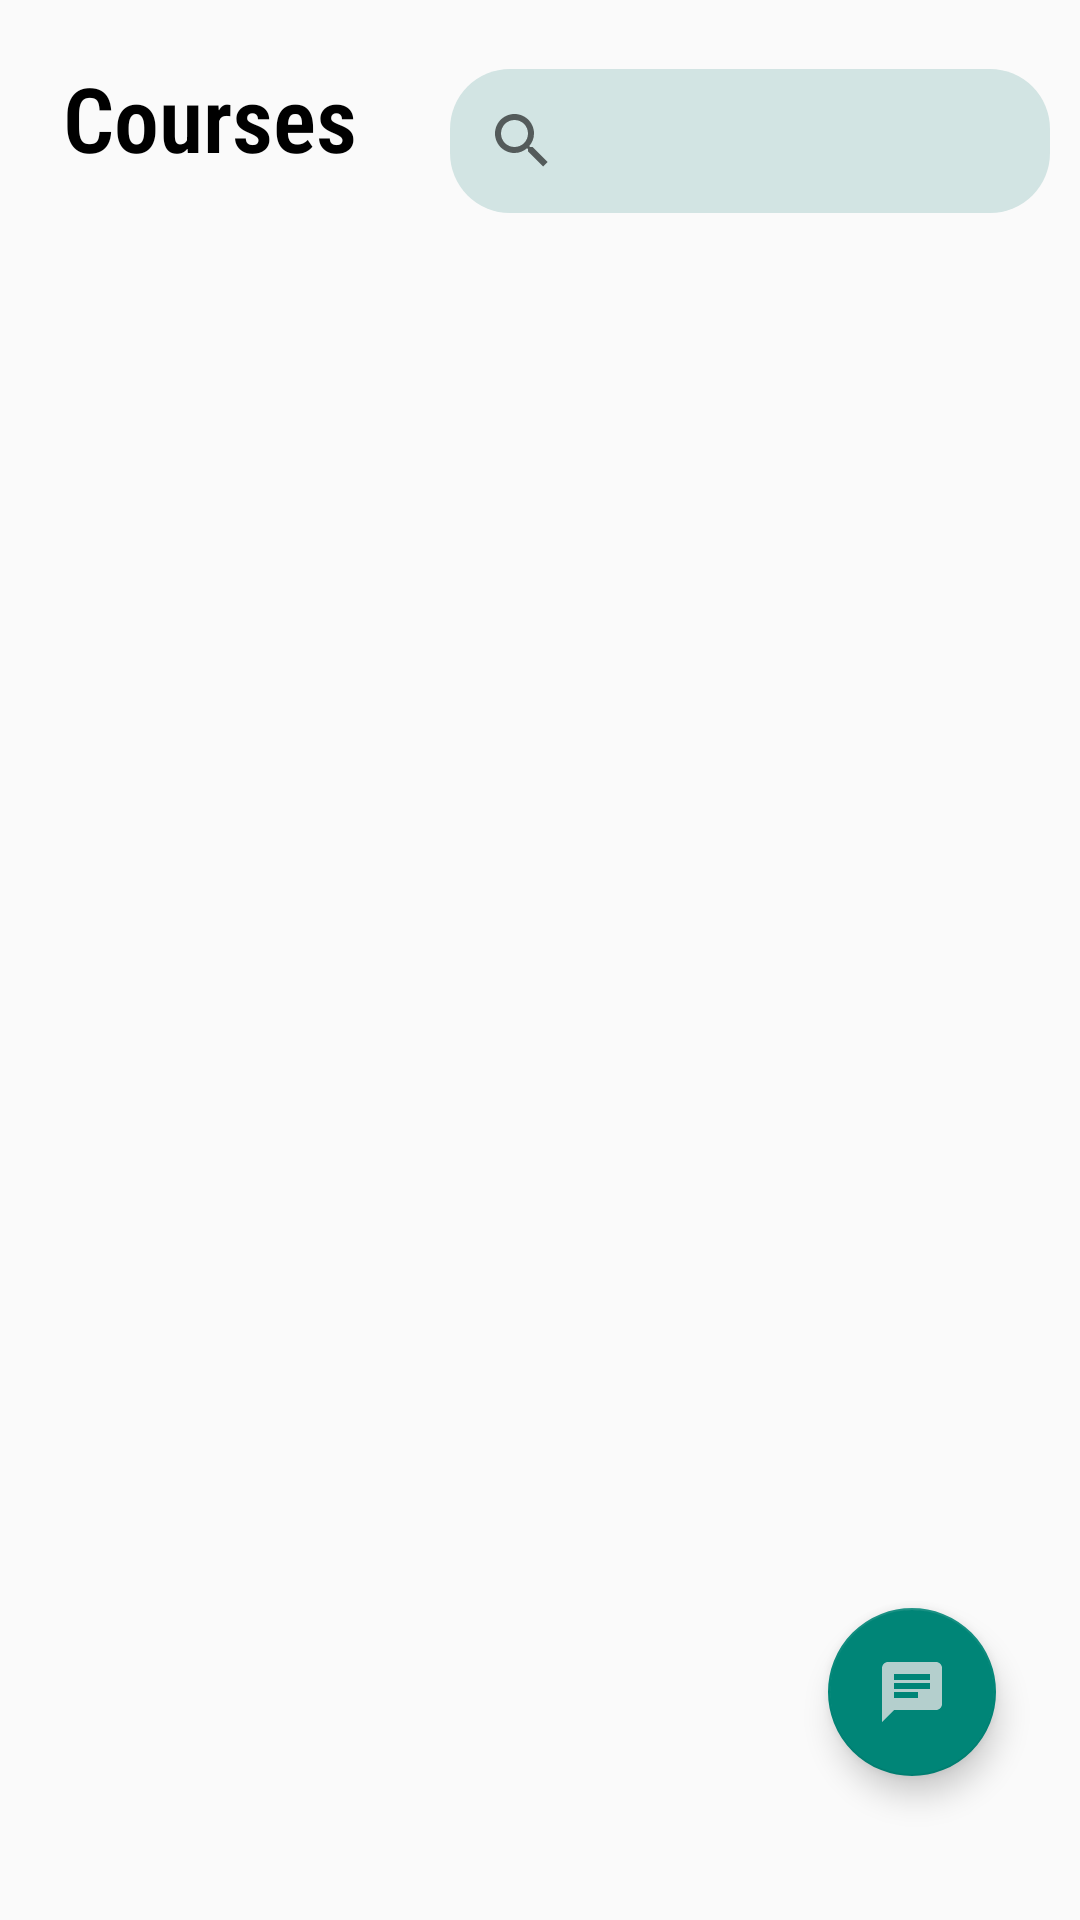

Icon bounding boxes for this 1080 × 1920 phone screenshot, format [left=x1, top=y1, right=x2, bottom=y2]:
chat: [left=828, top=1608, right=996, bottom=1776]
